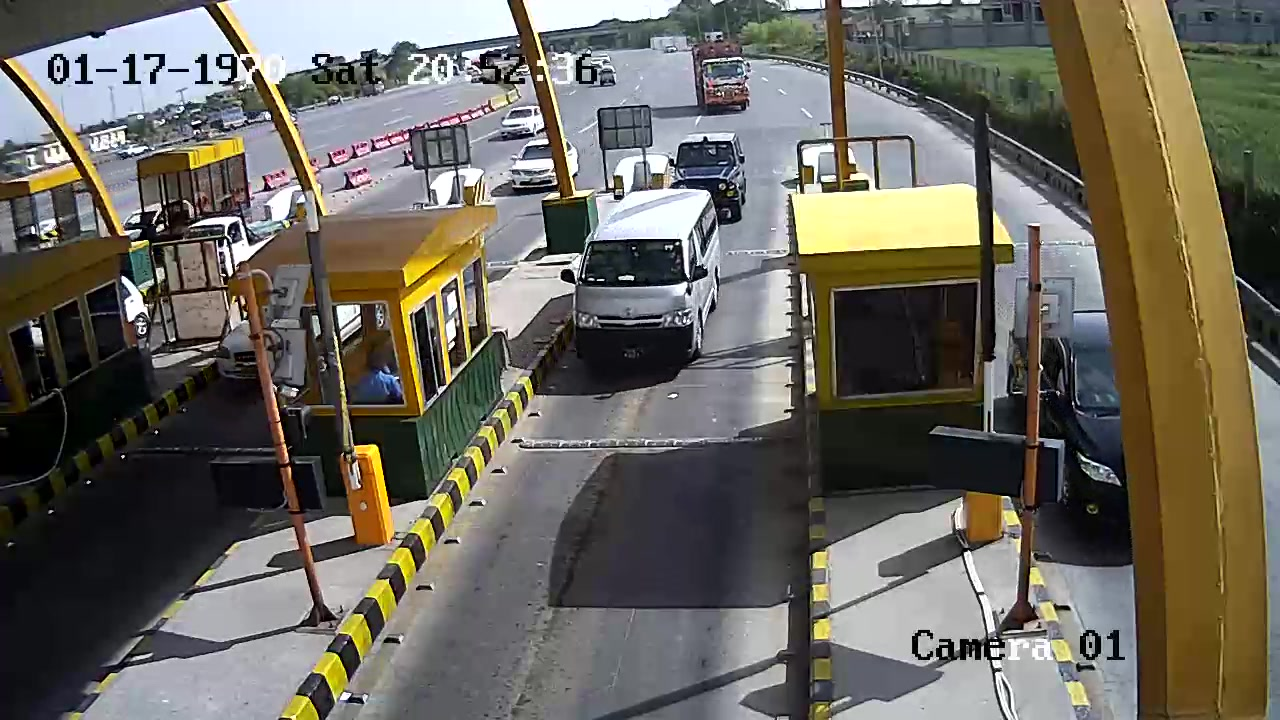F3: (568, 185, 725, 370)
